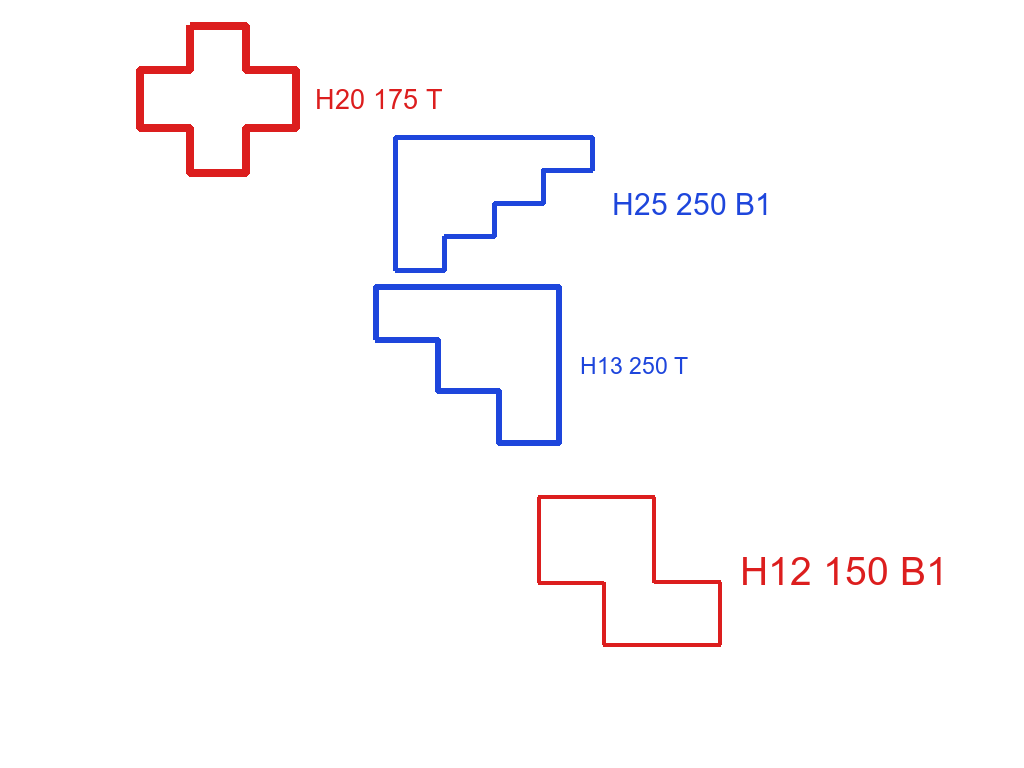shape: (371, 282, 565, 448), (534, 494, 724, 649), (391, 133, 597, 275), (135, 19, 301, 179)
text: (738, 555, 950, 587), (610, 191, 774, 217), (313, 87, 445, 111), (578, 355, 690, 376)
